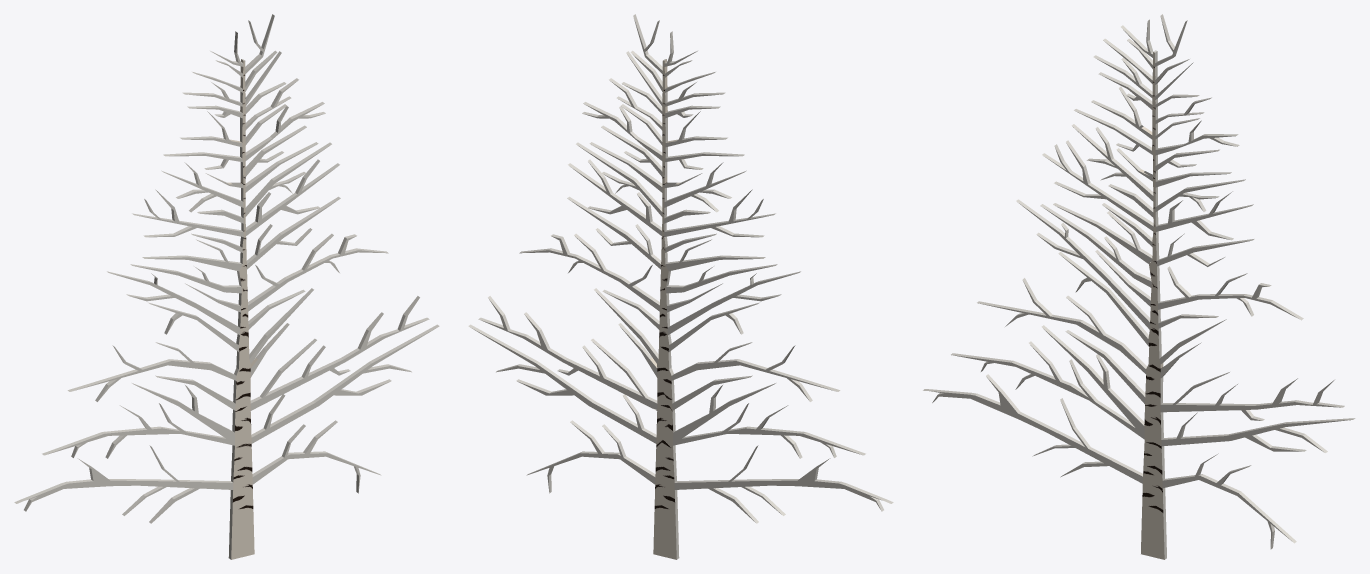
The model's file is Birch_01.fbx.
3 views of the same model, side by side, from view 1: azimuth 30°, elevation 25°; view 2: azimuth 150°, elevation 25°; view 3: azimuth 330°, elevation 25° (orthographic).
Parts seen in each view (by area): view 1: planarTrimmedSurface1; view 2: planarTrimmedSurface1; view 3: planarTrimmedSurface1.
Part boxes in pixels (x1,y1,x2,y2): planarTrimmedSurface1: (14,14,439,559); planarTrimmedSurface1: (468,14,893,559); planarTrimmedSurface1: (923,14,1355,559).
Size of the model in its own units: 6.81 by 8.21 by 0.068.
2 materials, 1 textured.
